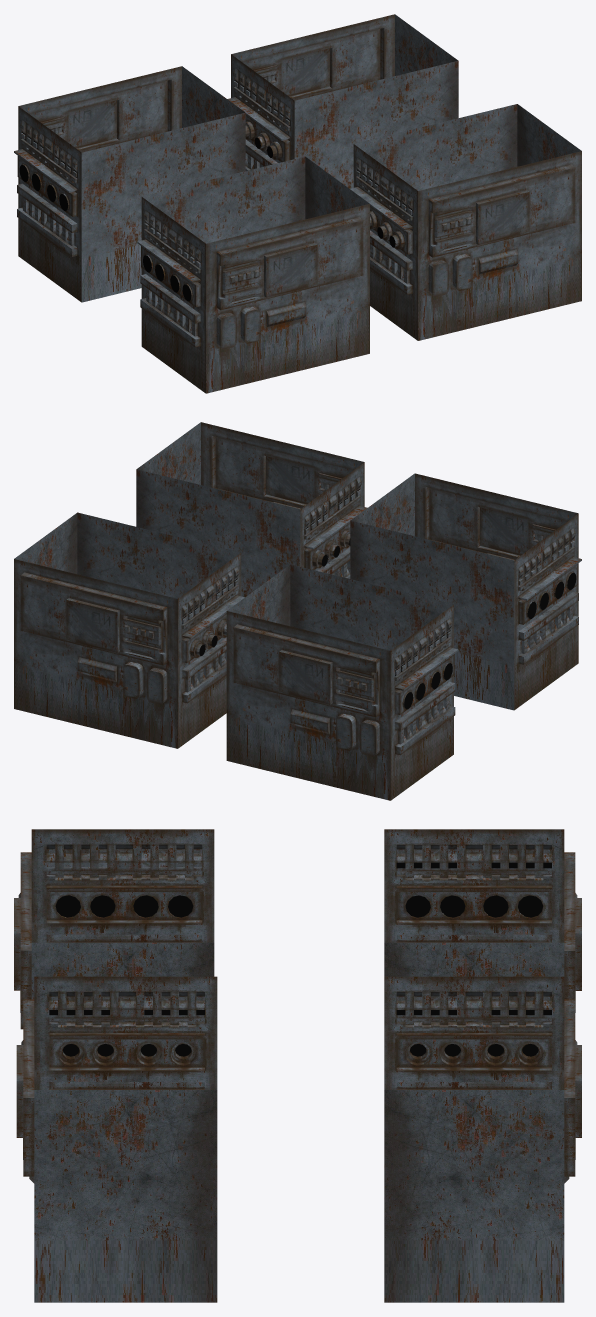
File: tabletop interior1.glb
3 renders of one model, top to bottom at view 1: azimuth 30°, elevation 25°; view 2: azimuth 150°, elevation 25°; view 3: azimuth 270°, elevation 25°, orthographic. The views are drawn at different scales.
Parts seen in each view (by area): view 1: tabletop interior device parent_004, tabletop interior device parent_002, tabletop interior device parent_001, tabletop interior device parent; view 2: tabletop interior device parent_001, tabletop interior device parent, tabletop interior device parent_004, tabletop interior device parent_002; view 3: tabletop interior device parent_002, tabletop interior device parent, tabletop interior device parent_004, tabletop interior device parent_001.
Boxes of the visible parts, bbox=[...] form: tabletop interior device parent_004: bbox=[137, 156, 369, 393]; tabletop interior device parent_002: bbox=[350, 104, 581, 340]; tabletop interior device parent_001: bbox=[14, 66, 245, 302]; tabletop interior device parent: bbox=[227, 14, 458, 188]; tabletop interior device parent_001: bbox=[226, 564, 458, 800]; tabletop interior device parent: bbox=[14, 512, 244, 748]; tabletop interior device parent_004: bbox=[350, 473, 581, 710]; tabletop interior device parent_002: bbox=[136, 422, 367, 597]; tabletop interior device parent_002: bbox=[16, 976, 217, 1302]; tabletop interior device parent: bbox=[384, 976, 581, 1302]; tabletop interior device parent_004: bbox=[14, 829, 214, 1029]; tabletop interior device parent_001: bbox=[384, 829, 581, 1012].
Size of the model in its own units: 18.43 by 6.85 by 16.59.
Materials: 2 (1 with a texture image).
